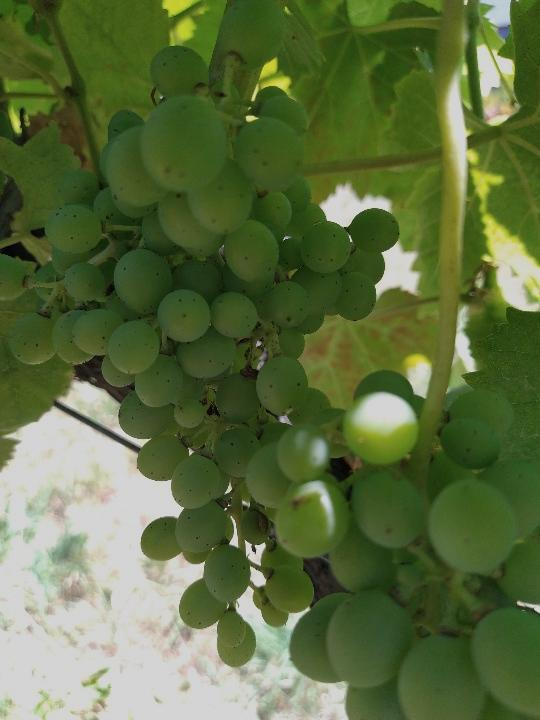grape: (4, 8, 404, 669)
